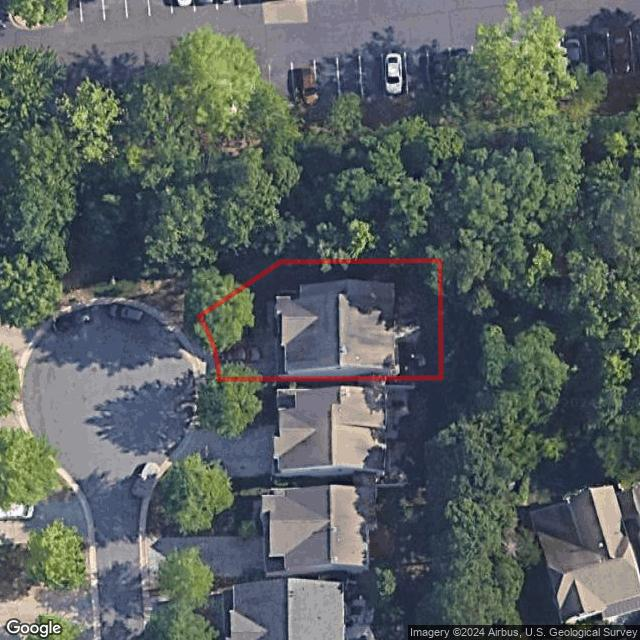Driveway: (212, 342, 285, 378)
Extra-Driveway: (192, 345, 218, 377)
Extra-Lawn: (180, 317, 214, 347)
House: (275, 279, 397, 375)
Lawn: (201, 260, 441, 379)
Other: (396, 326, 421, 342), (416, 354, 427, 365)
Sidewalk: (266, 300, 276, 342)
